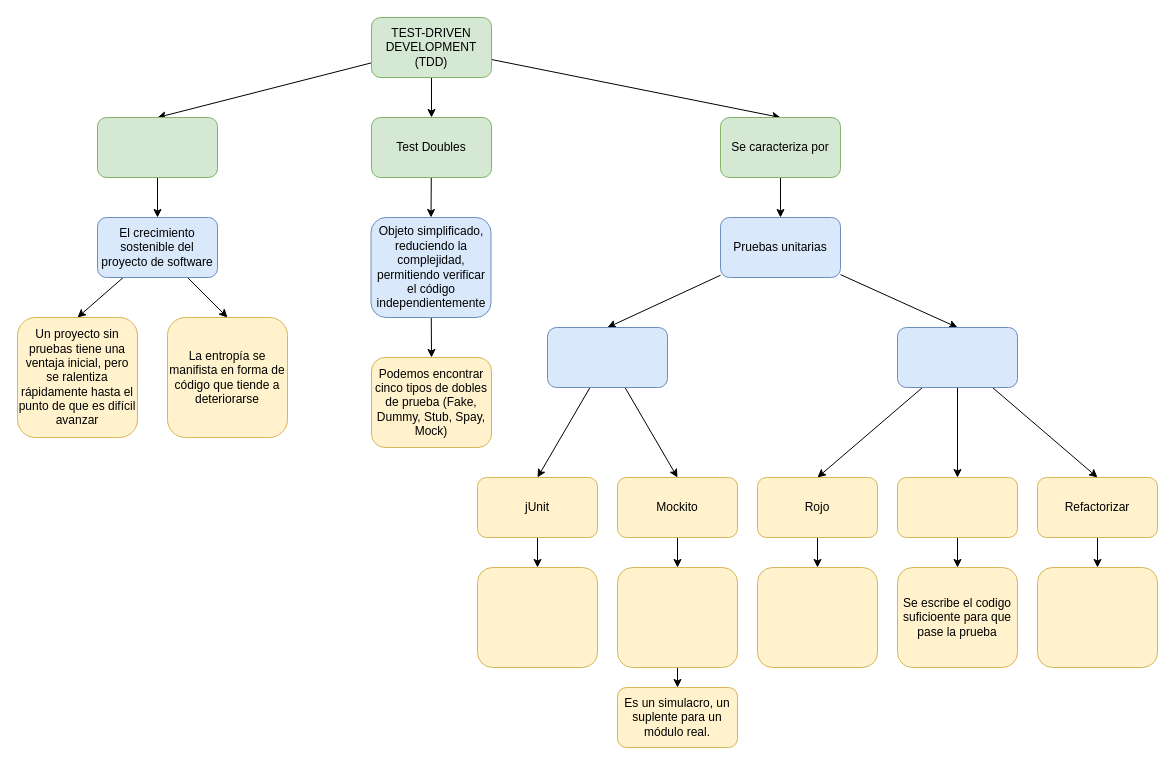
Some shapes in this 1175 by 765 pixel diagram are drawn without their labels. Here are the shapes that lost their labels. From the top down, the centre of each, then its label:
At (x=157, y=147): "Sirve para".
At (x=607, y=357): "Framework".
At (x=957, y=357): "Rojo, Verde, Refactorización".
At (x=957, y=507): "Verde".
At (x=537, y=617): "Es el framework que nos permite escribir y ejecutar pruebas unitarias en Java".
At (x=677, y=617): "Es un framework que nos permite crear y configurar nuestros dobles de prueba".
At (x=817, y=617): "Escribes la prueba, la ejecutas y falla".
At (x=1097, y=617): "Se mejora el código".
